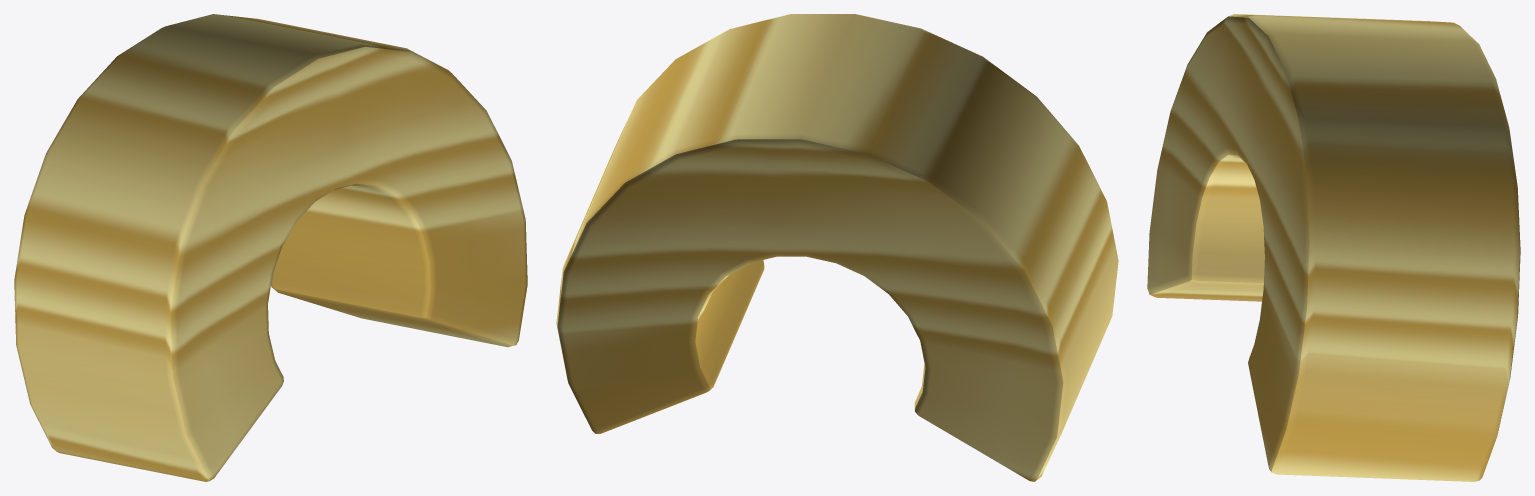
Rendered from right hand.obj.
3 views of the same model, side by side, from view 1: azimuth 30°, elevation 25°; view 2: azimuth 150°, elevation 25°; view 3: azimuth 270°, elevation 25° (orthographic). The views are drawn at different scales.
Parts seen in each view (by area): view 1: Blake_right_hand_right_wrist_right_wrist; view 2: Blake_right_hand_right_wrist_right_wrist; view 3: Blake_right_hand_right_wrist_right_wrist.
Boxes of the visible parts, x1,y1,x2,y2 form: Blake_right_hand_right_wrist_right_wrist: [14, 14, 527, 481]; Blake_right_hand_right_wrist_right_wrist: [556, 14, 1118, 481]; Blake_right_hand_right_wrist_right_wrist: [1147, 14, 1520, 481].
Size of the model in its own units: 0.8625 by 0.6445 by 0.5818.
